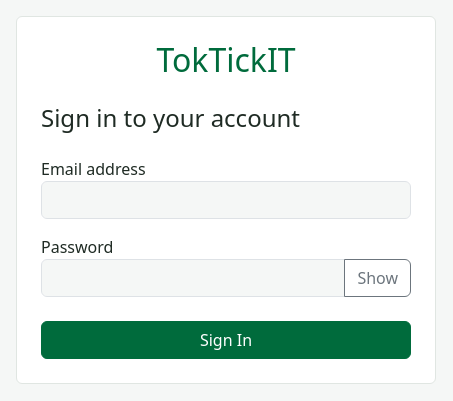
Scenario: Login Screen › toggles password visibility
Click the button "Show".
click(378, 278)  # box x1=344 y1=259 x2=411 y2=297
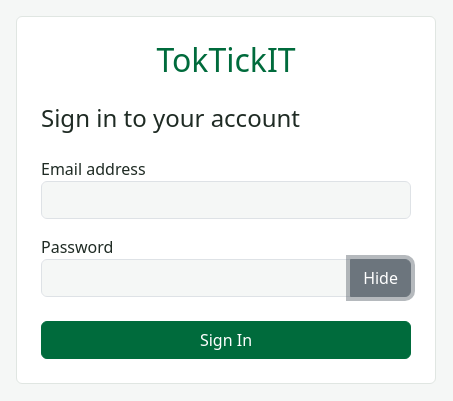
Check: the button "Hide" is shown, box x1=350 y1=259 x2=411 y2=297
